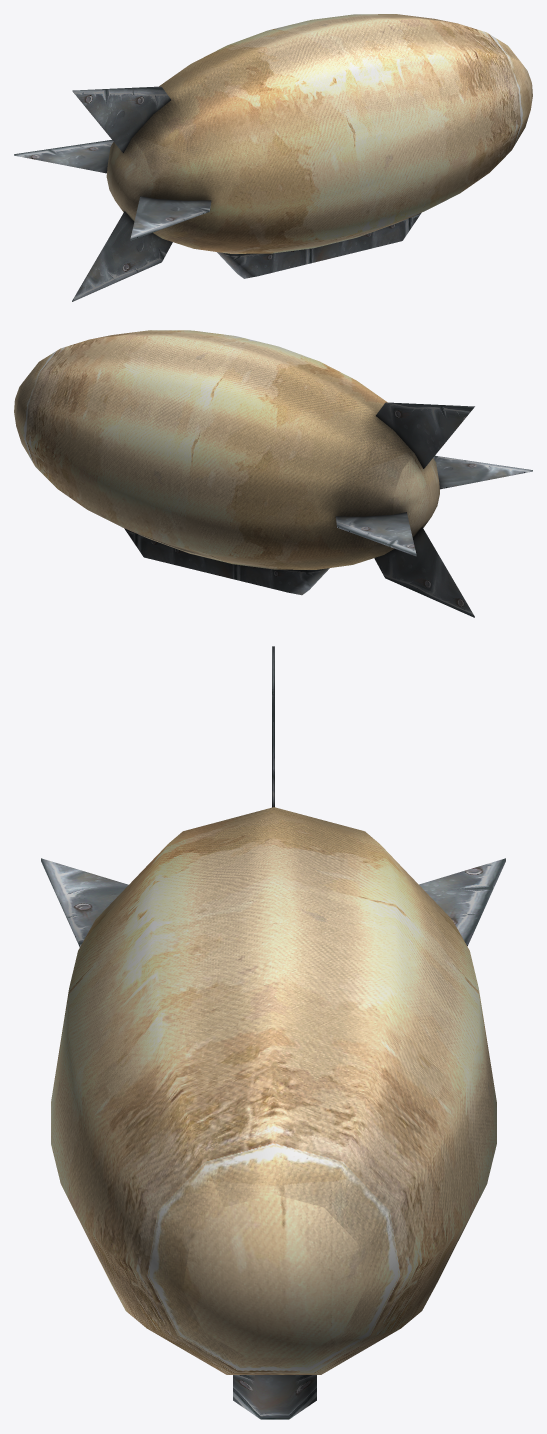
The model's file is Blimp.fbx.
3 renders of one model, top to bottom at view 1: azimuth 30°, elevation 25°; view 2: azimuth 150°, elevation 25°; view 3: azimuth 270°, elevation 25°, orthographic. The views are drawn at different scales.
Parts seen in each view (by area): view 1: Sphere; view 2: Sphere; view 3: Sphere.
Boxes of the visible parts, bbox=[...] form: Sphere: bbox=[14, 14, 532, 301]; Sphere: bbox=[14, 330, 532, 617]; Sphere: bbox=[41, 646, 505, 1419].
Bounding box in the file's own units: 24.87 × 11.89 × 11.04.
